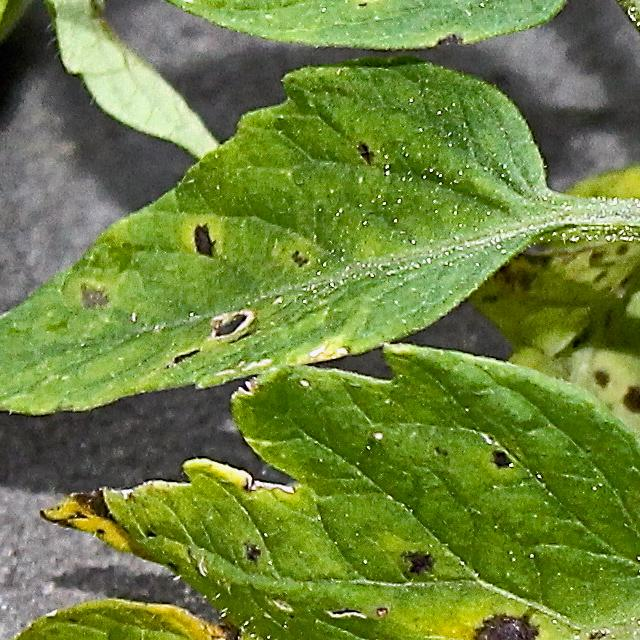Tomato Septoria leaf spot: (0, 363, 640, 640)
